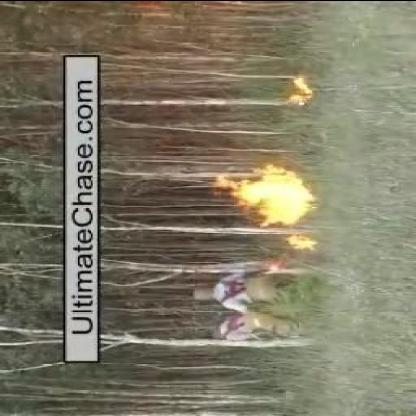foggia-v2-map80-epoch100 - v1 4323: (238, 164, 318, 224), (288, 78, 312, 104), (290, 233, 316, 251)
